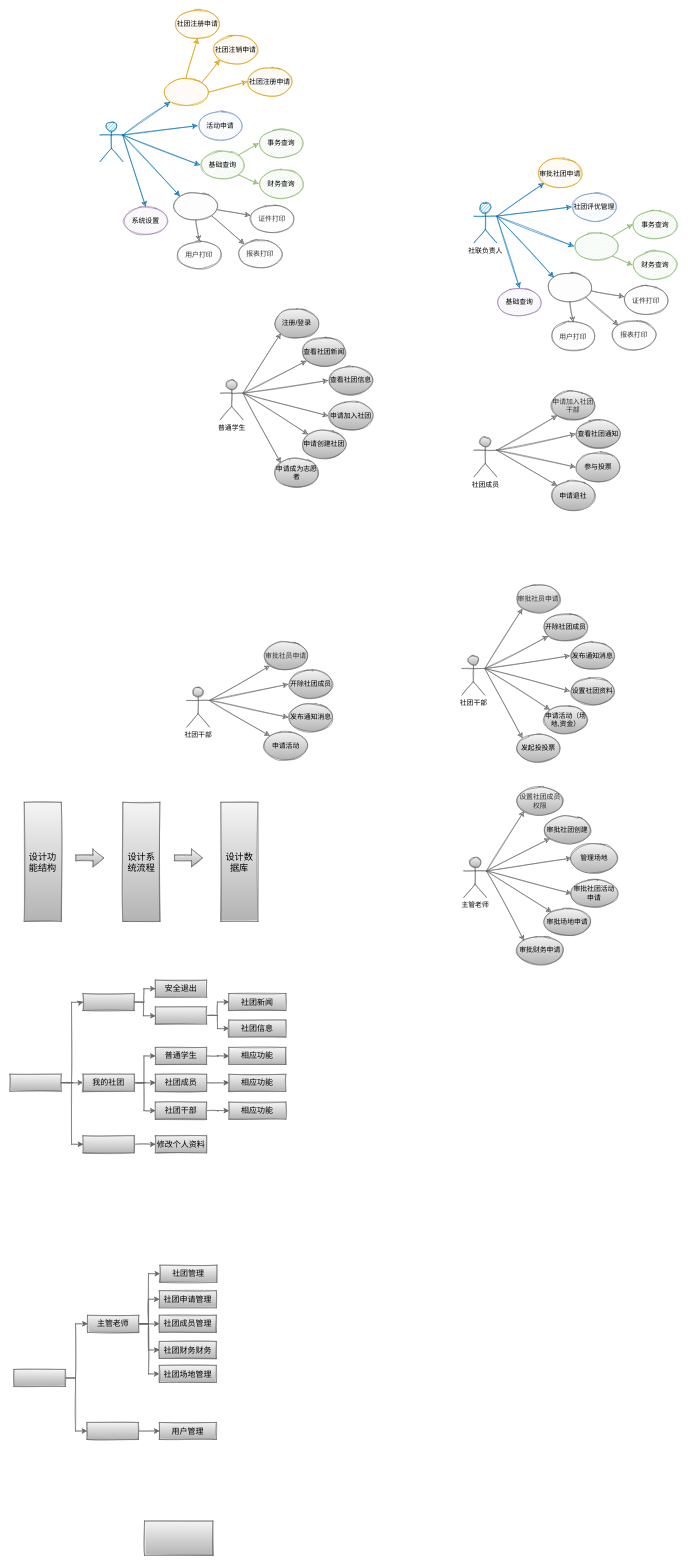
The diagram is 688 pixels wide and 1565 high, and some of its shapes have lost their labels. The shapes that lost their labels are listed below. From the top down, each one's centre as x and y in pixels, then its label:
At point 186,91: "基础申请".
At point 111,141: "社团负责人".
At point 195,205: "打印".
At point 596,245: "社团事务管理".
At point 569,287: "社团财务管理".
At point 108,1002: "首页".
At point 181,1015: "社团资讯".
At point 35,1082: "用户登录".
At point 108,1144: "个人信息".
At point 39,1378: "管理员登录".
At point 112,1431: "系统管理员".
